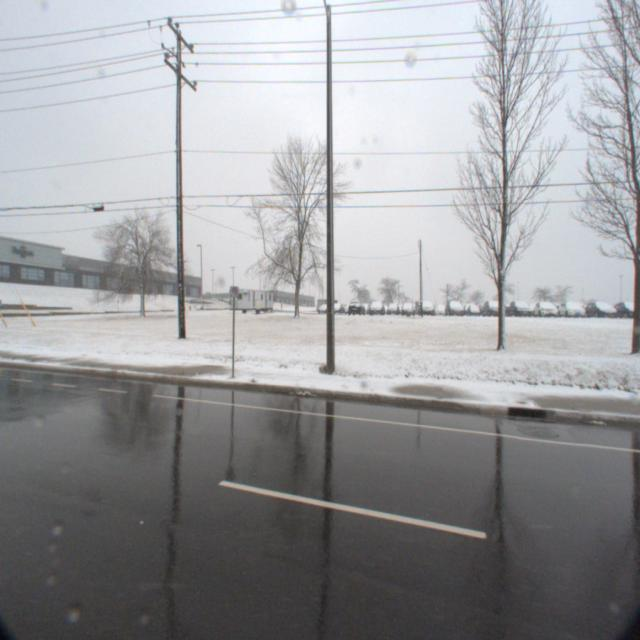Car: (550, 296, 584, 318), (527, 296, 556, 316), (502, 296, 530, 316), (441, 296, 462, 316)
